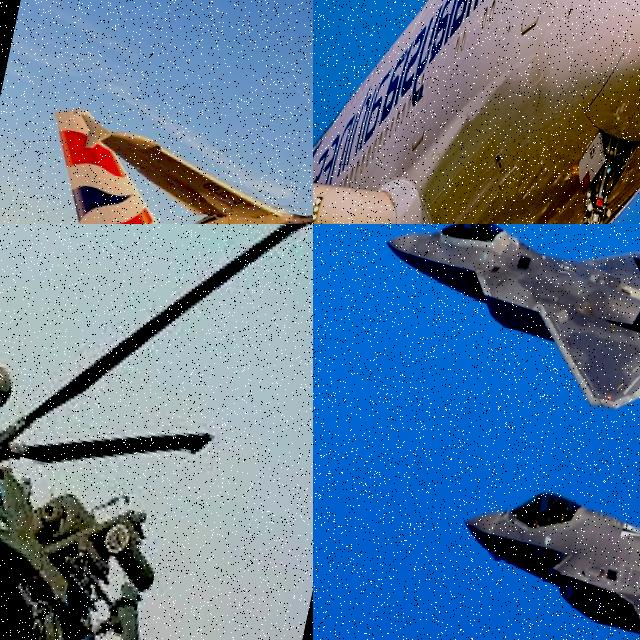A380: (313, 0, 640, 224), (0, 93, 313, 224)
Apache: (0, 224, 313, 640)
F22: (360, 224, 640, 434), (441, 425, 640, 640)
